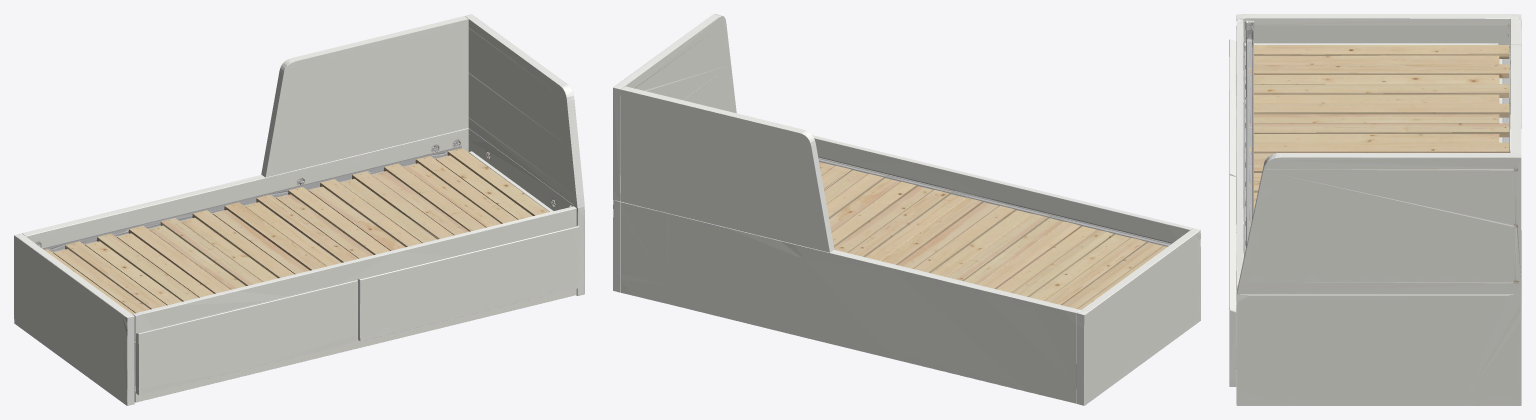
The picture shows the model from 3 angles, left to right: view 1: azimuth 30°, elevation 25°; view 2: azimuth 150°, elevation 25°; view 3: azimuth 270°, elevation 25°; orthographic projection. The views are drawn at different scales.
Visible parts, largest first — view 1: model_NODE_ID_cdaaf055-70e8-4597-9465-174ff428dd92; view 2: model_NODE_ID_cdaaf055-70e8-4597-9465-174ff428dd92; view 3: model_NODE_ID_cdaaf055-70e8-4597-9465-174ff428dd92.
Part boxes in pixels (bbox=[...]): model_NODE_ID_cdaaf055-70e8-4597-9465-174ff428dd92: bbox=[14, 14, 584, 405]; model_NODE_ID_cdaaf055-70e8-4597-9465-174ff428dd92: bbox=[613, 14, 1200, 405]; model_NODE_ID_cdaaf055-70e8-4597-9465-174ff428dd92: bbox=[1229, 14, 1521, 405].
Bounding box in the file's own units: 2.07 × 0.86 × 0.91.
Materials: 1 (1 with a texture image).
